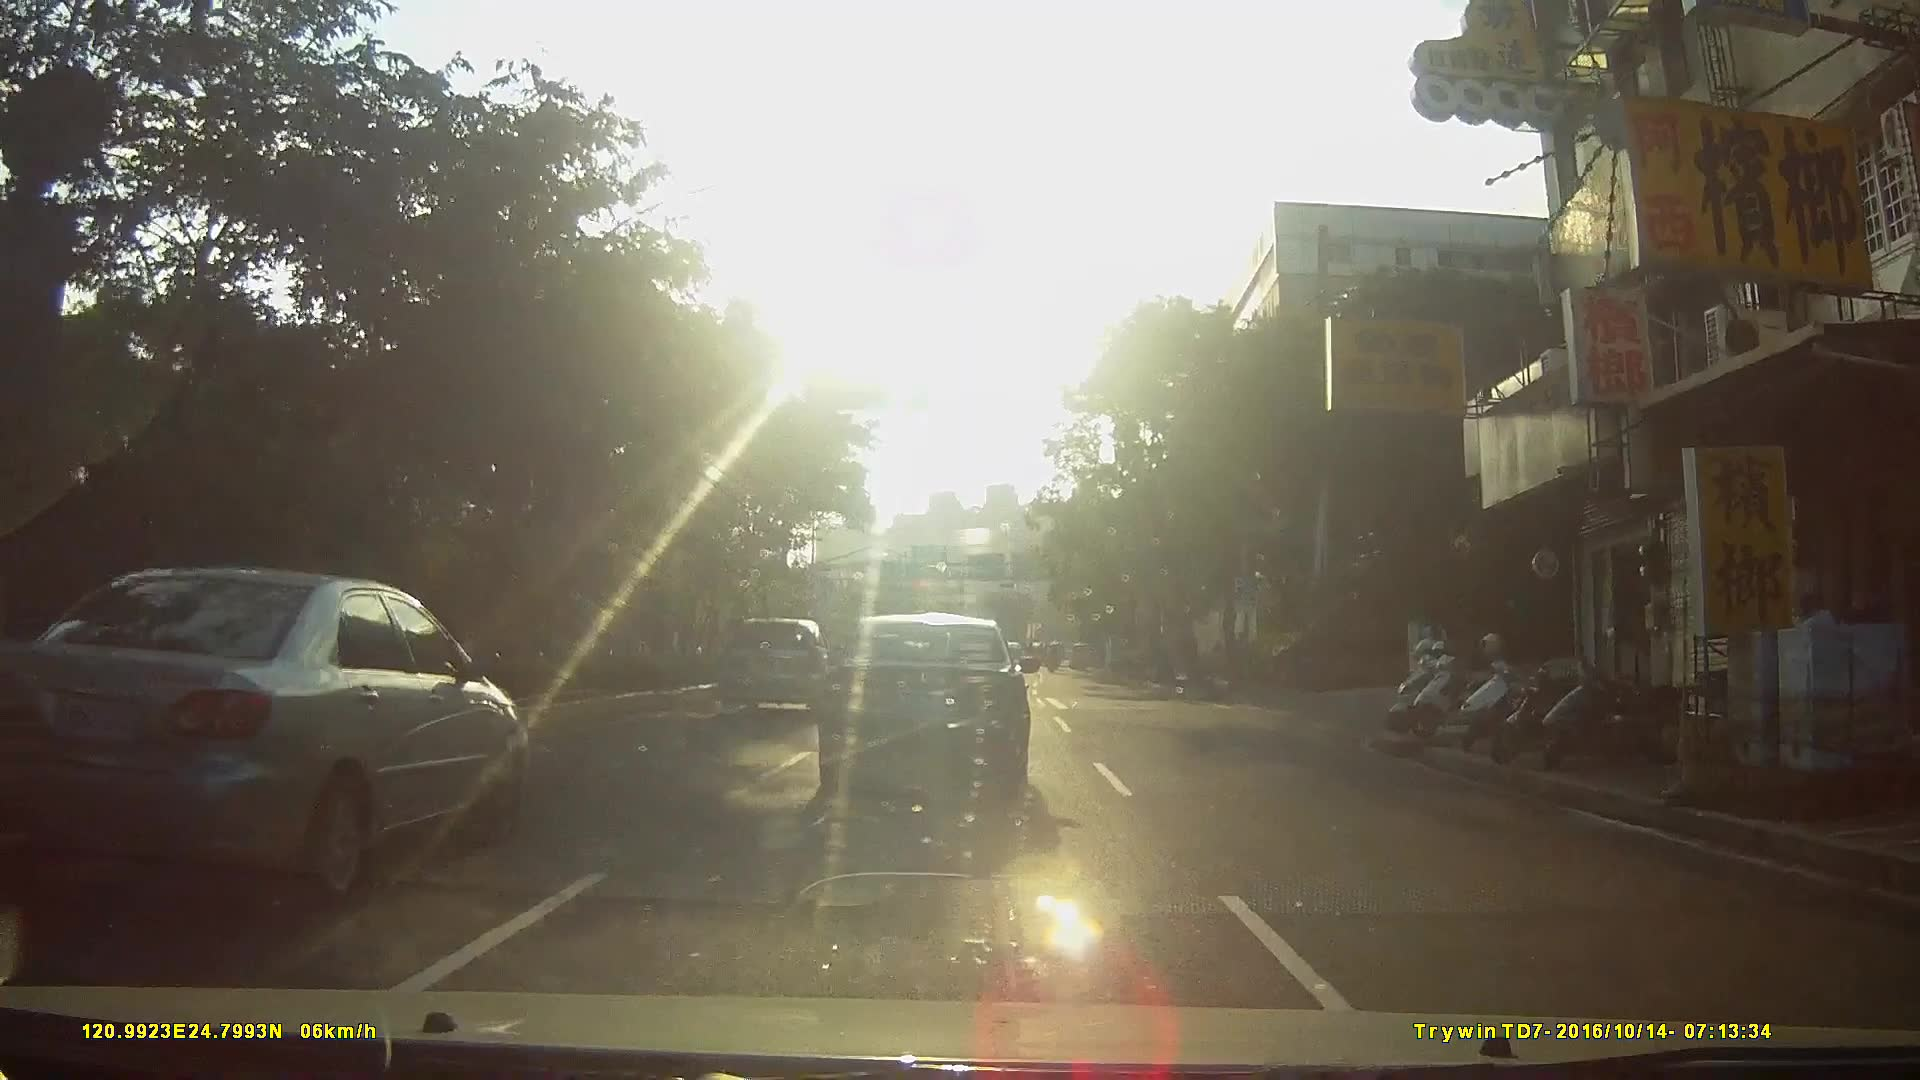pedestrian: (1785, 587, 1852, 746)
vehicle: (2, 566, 547, 898), (823, 609, 1051, 807), (724, 614, 839, 710), (1067, 638, 1102, 668)
